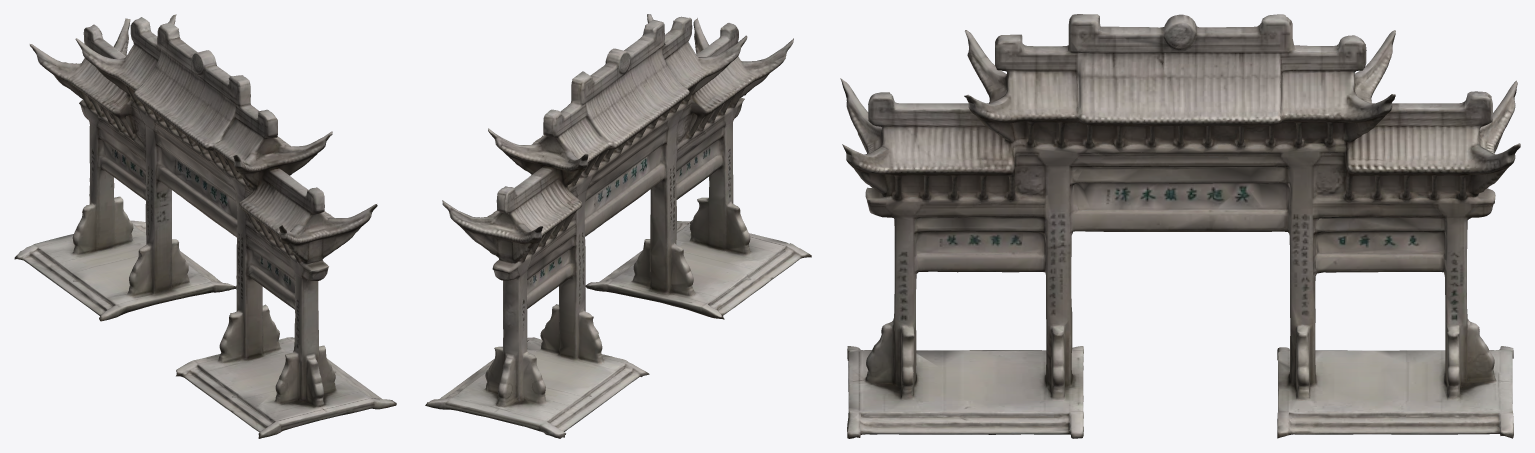
The model's file is preview.9cf1b0ace04a.glb.
The picture shows the model from 3 angles, left to right: view 1: azimuth 30°, elevation 25°; view 2: azimuth 150°, elevation 25°; view 3: azimuth 270°, elevation 25°; orthographic projection. The views are drawn at different scales.
Visible parts, largest first — view 1: tripo_node_ca0ea03f-47c4-49c7-a14d-328f2c33d90d; view 2: tripo_node_ca0ea03f-47c4-49c7-a14d-328f2c33d90d; view 3: tripo_node_ca0ea03f-47c4-49c7-a14d-328f2c33d90d.
Part boxes in pixels (bbox=[...]): tripo_node_ca0ea03f-47c4-49c7-a14d-328f2c33d90d: bbox=[14, 14, 396, 438]; tripo_node_ca0ea03f-47c4-49c7-a14d-328f2c33d90d: bbox=[425, 14, 811, 438]; tripo_node_ca0ea03f-47c4-49c7-a14d-328f2c33d90d: bbox=[840, 14, 1520, 438].
Size of the model in its own units: 0.3077 by 0.5948 by 0.9742.
Materials: 1 (1 with a texture image).
